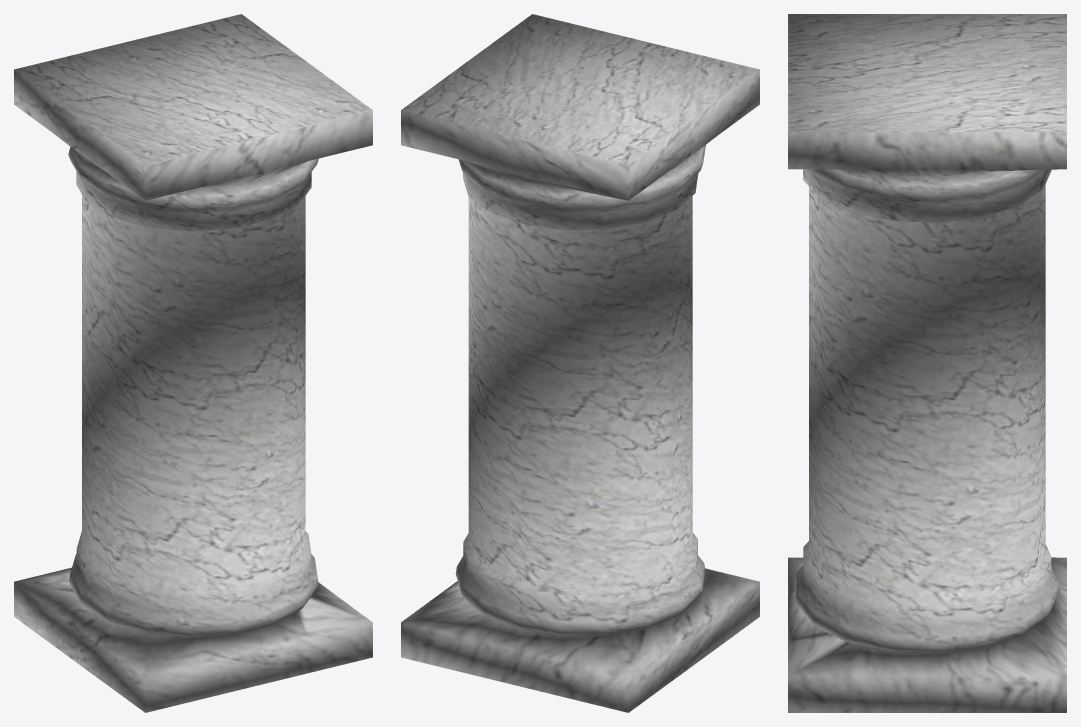
File: pedestral_hi.glb
3 views of the same model, side by side, from view 1: azimuth 30°, elevation 25°; view 2: azimuth 150°, elevation 25°; view 3: azimuth 270°, elevation 25° (orthographic). The views are drawn at different scales.
Visible parts, largest first — view 1: column_diffuse.jpg__; view 2: column_diffuse.jpg__; view 3: column_diffuse.jpg__.
Boxes of the visible parts, box(x1,y1,x2,y2) form: column_diffuse.jpg__: box(14, 14, 372, 712); column_diffuse.jpg__: box(401, 14, 759, 712); column_diffuse.jpg__: box(788, 14, 1066, 712).
Bounding box in the file's own units: 1.37 × 3.16 × 1.37.
Materials: 1 (1 with a texture image).
